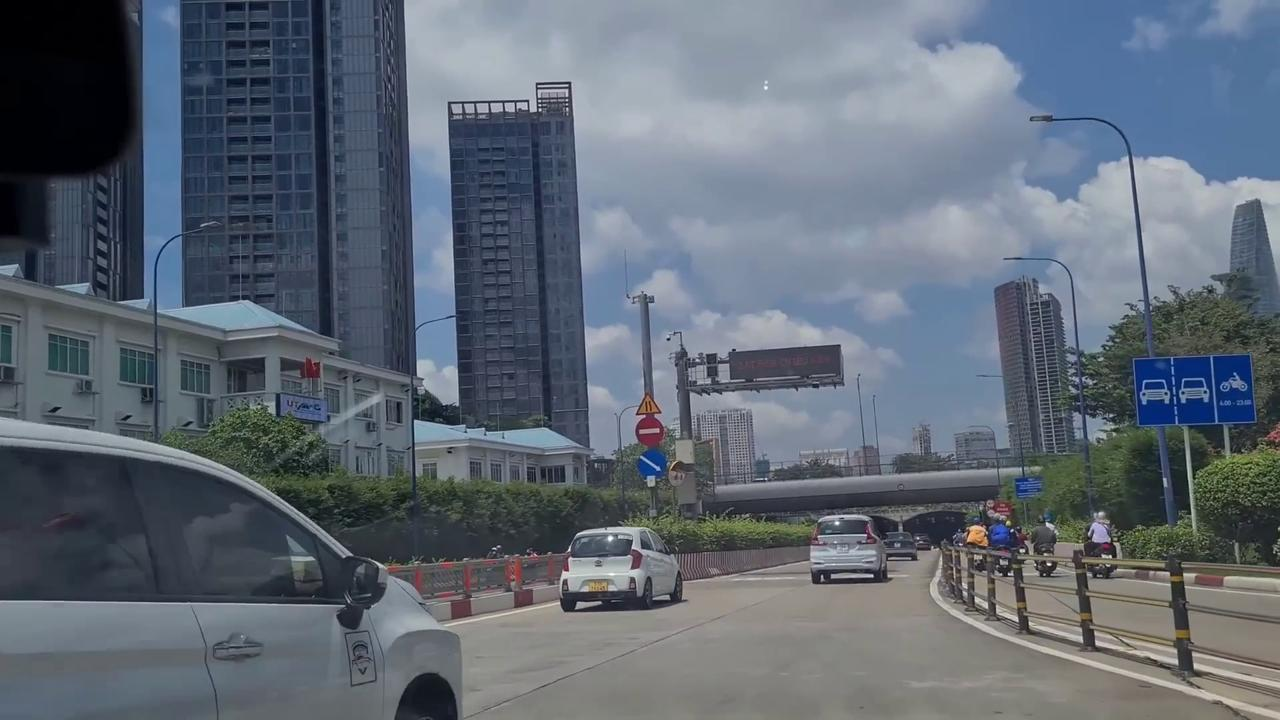Cấm đi ngược chiều: (633, 416, 667, 449)
Hướng phải đi vòng sang phải: (637, 449, 668, 479)
Làn đường cho từng xe: (1133, 356, 1256, 428)
Đuờng hẹp: (636, 391, 664, 415)
